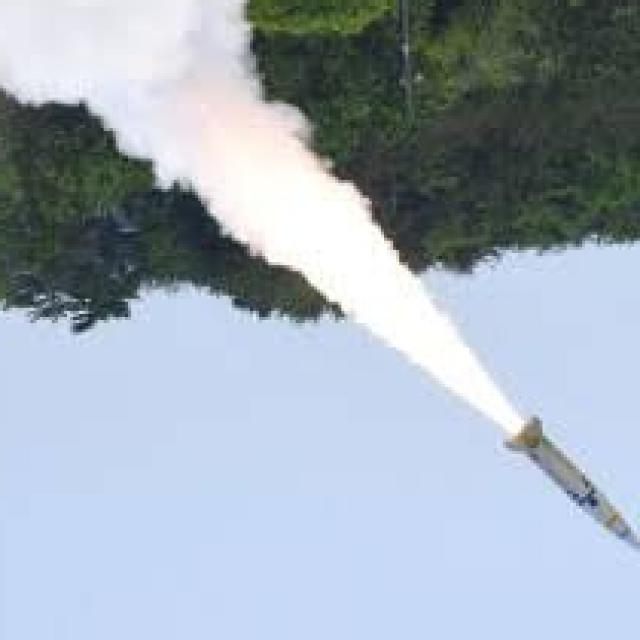missile: (502, 412, 638, 549)
